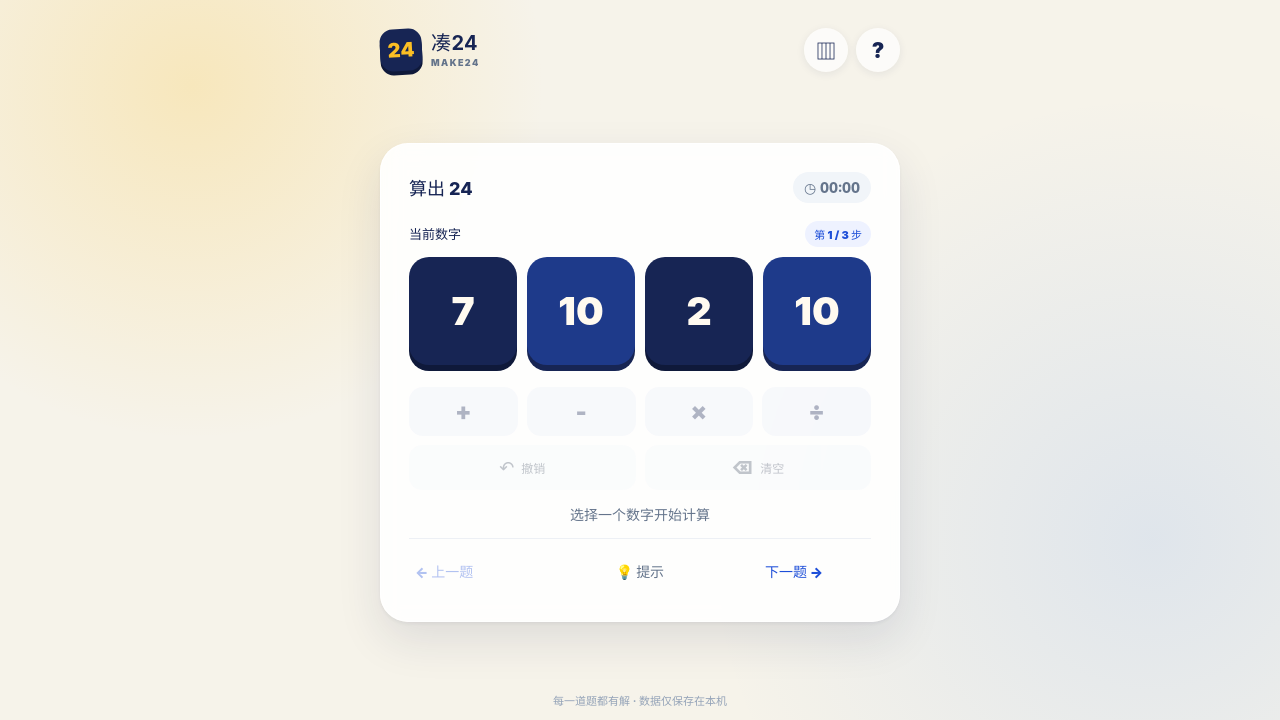
Test: Make24 app › returns to the previous puzzle within the current session
Click the button "下一题 →" at (794, 570), box [717,548,871,592]
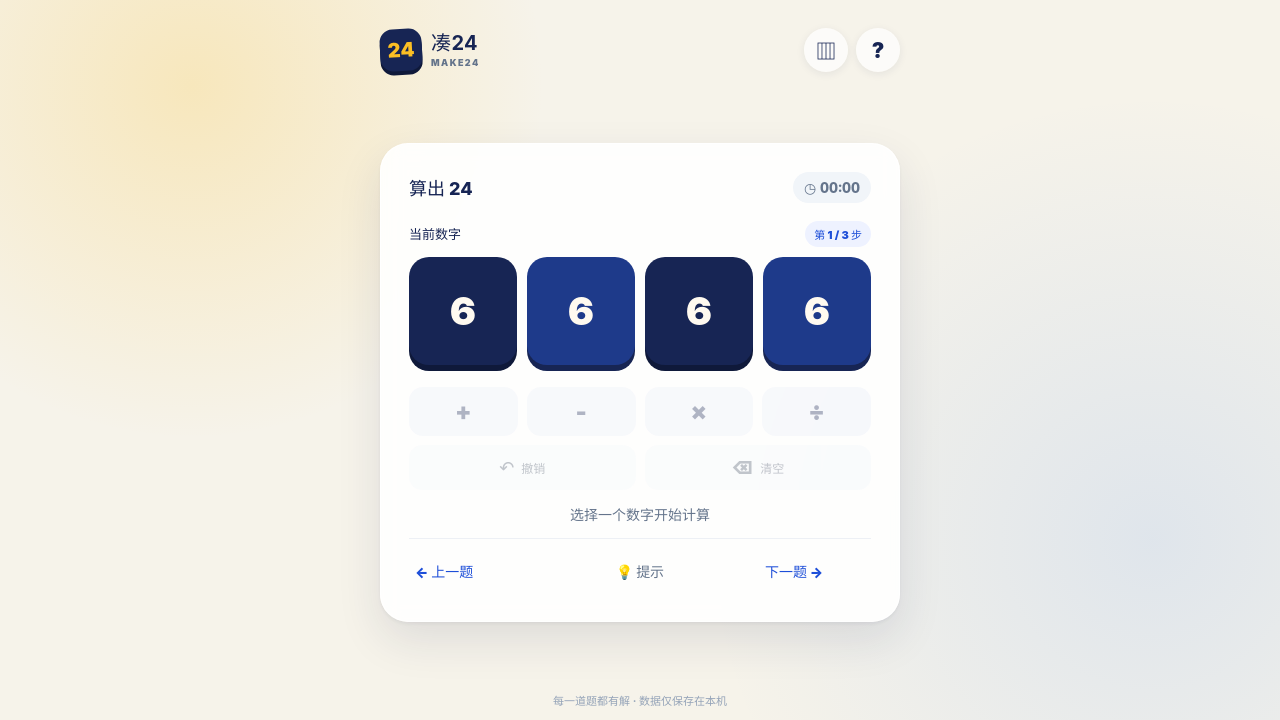
Expected: the number of buttons named "数字 6" is 4, [409,256,517,364]; [527,256,635,364]; [645,256,753,364]; [763,256,871,364]
Click the button "← 上一题" at (486, 570), box [409,548,563,592]
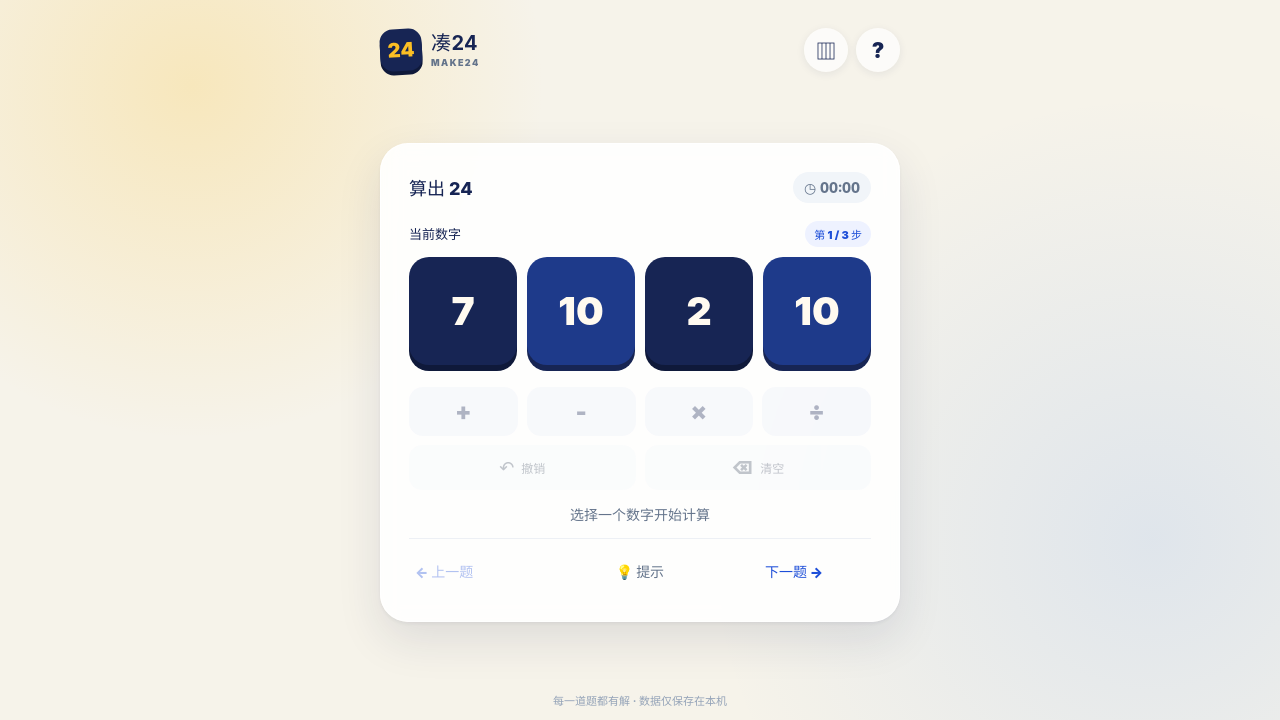
Expected: the button named "数字 7" is shown, [409,256,517,364]
